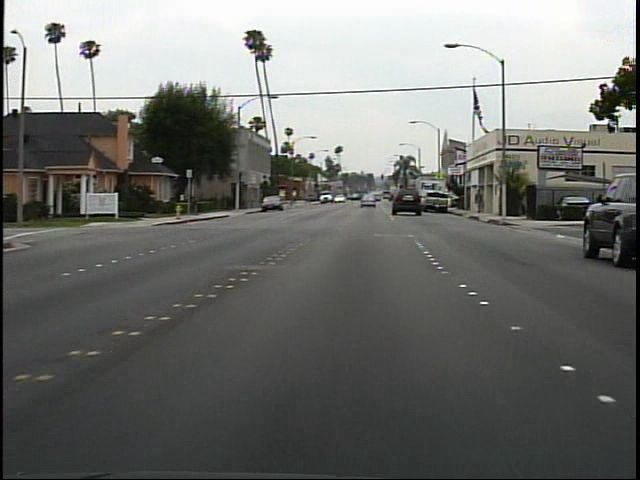person: (472, 187, 489, 218)
